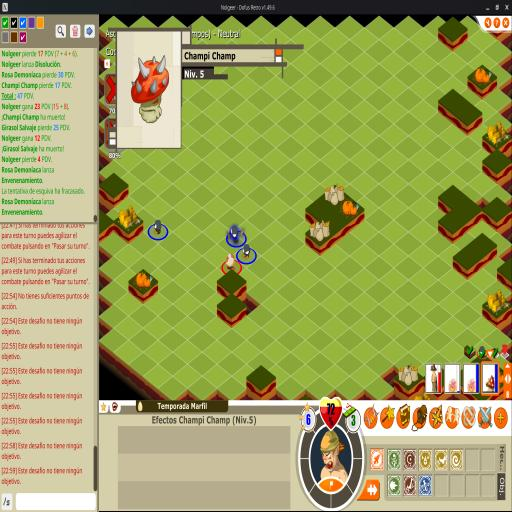Enemigos: (227, 222, 244, 244), (241, 243, 251, 261), (153, 218, 162, 236)
Personaje: (225, 252, 236, 272)
